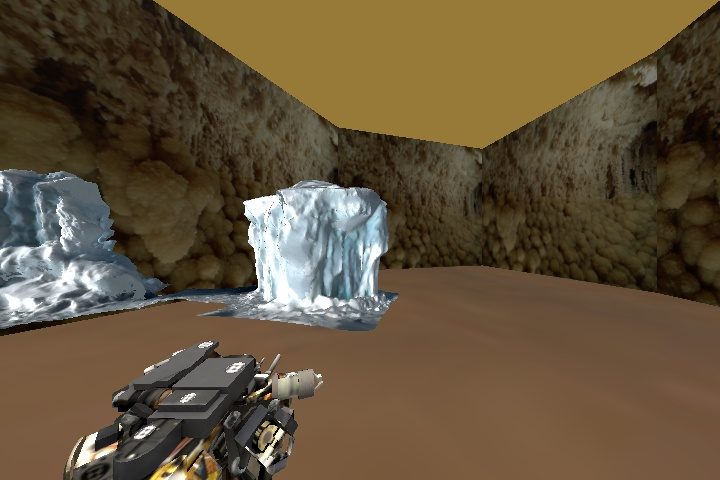minerals: (0, 164, 147, 323), (245, 180, 387, 321)
